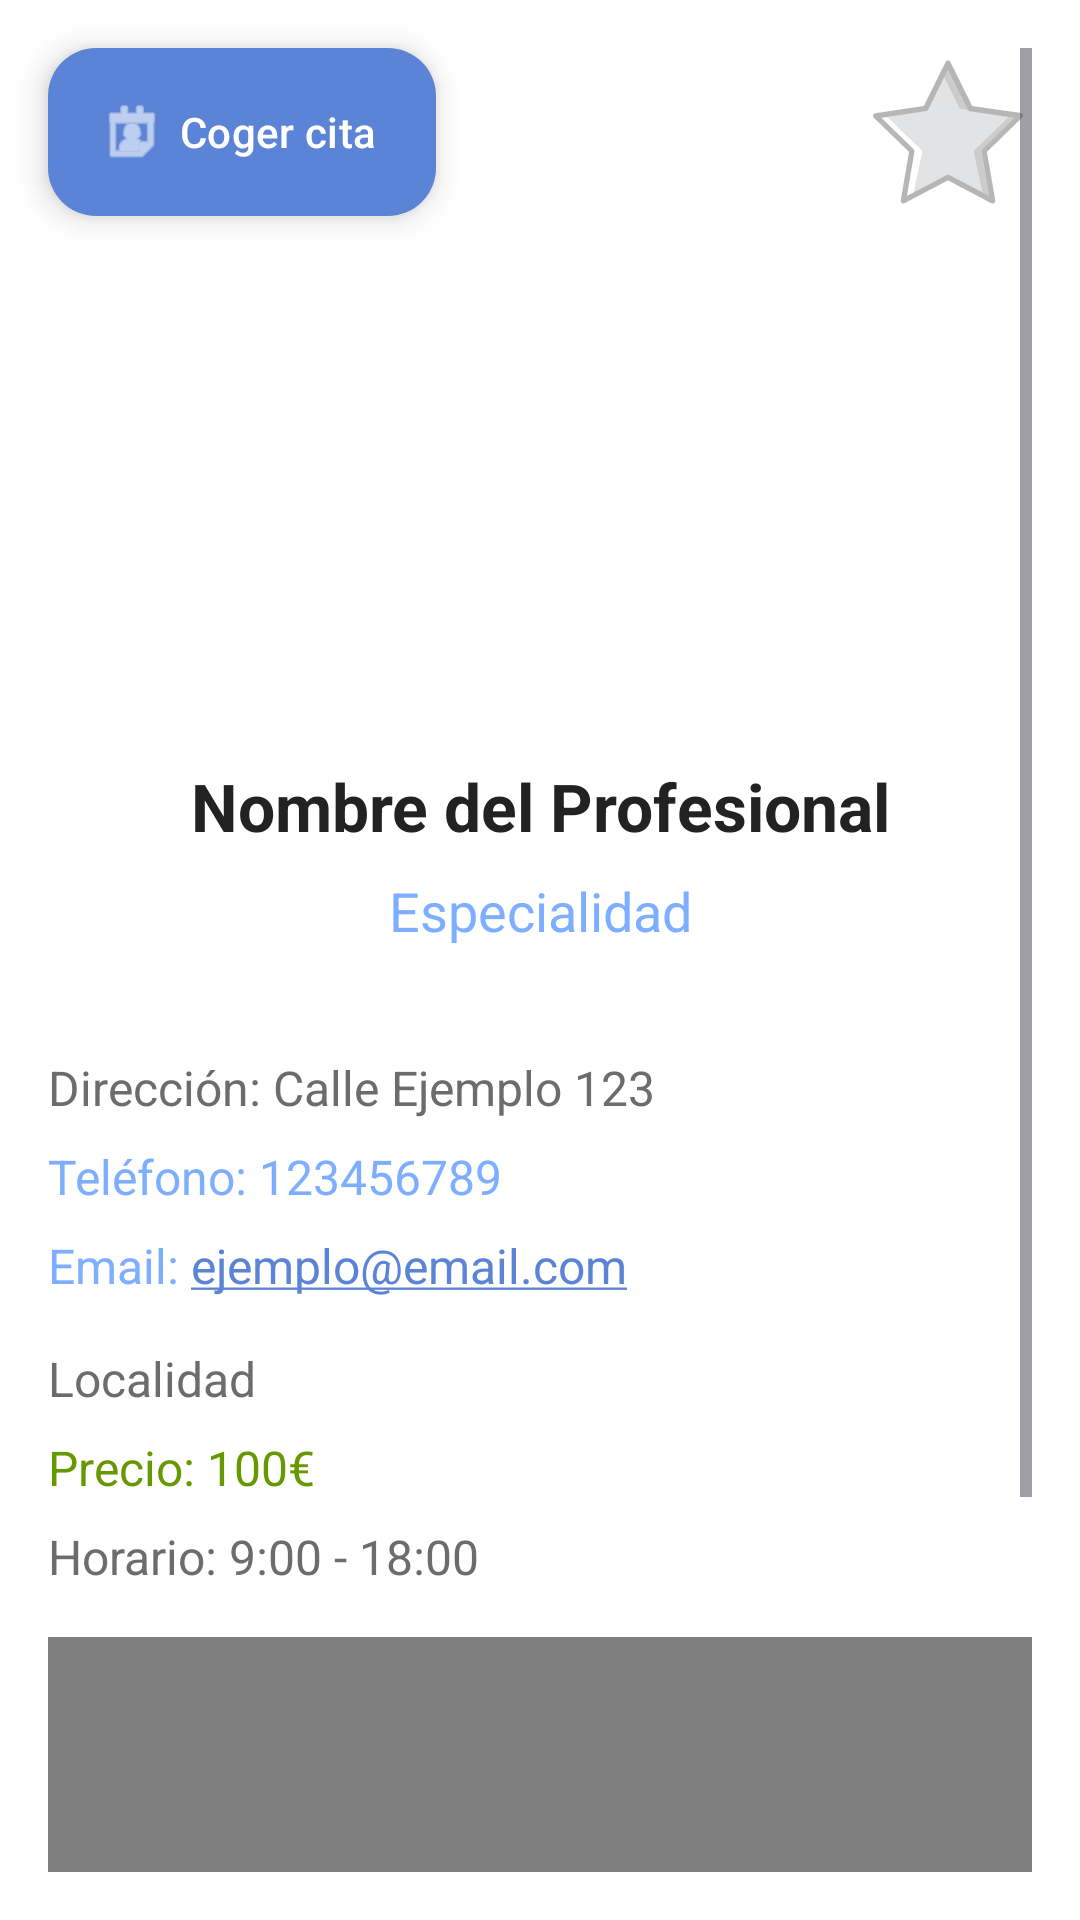

Icon click points for this 1080px x 1920px phone screenshot, format (x=x, y=y):
Añadir a favoritos: (x=952, y=132)
